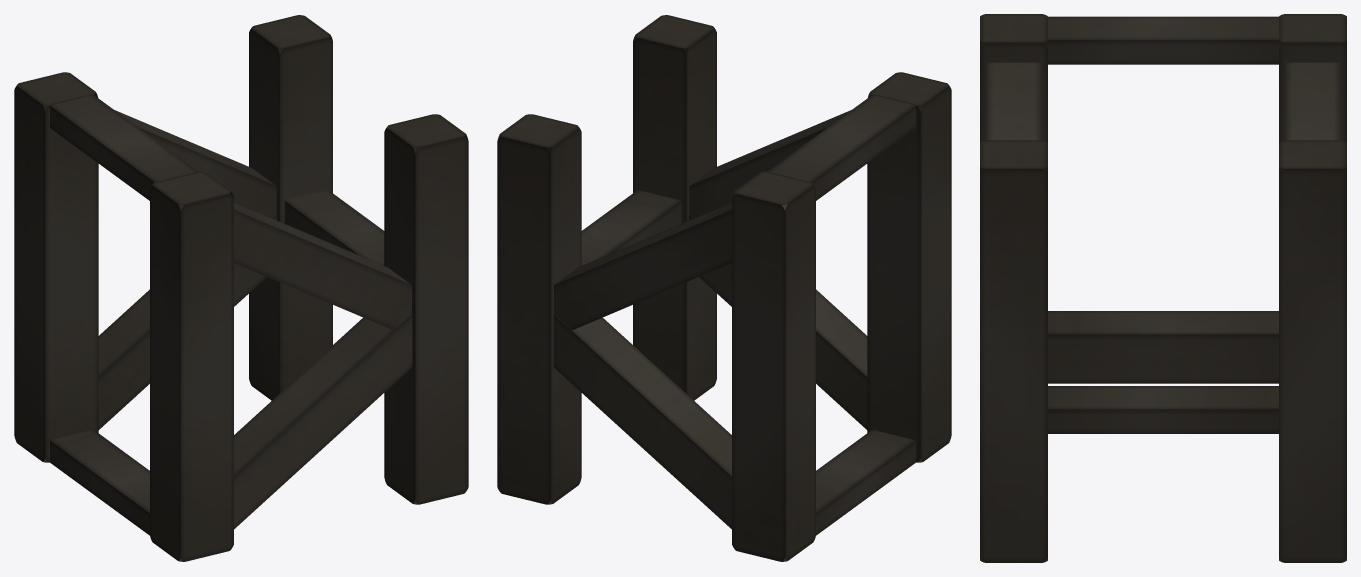
The model's file is steel_props.obj.
The picture shows the model from 3 angles, left to right: view 1: azimuth 30°, elevation 25°; view 2: azimuth 150°, elevation 25°; view 3: azimuth 270°, elevation 25°; orthographic projection. The views are drawn at different scales.
Visible parts, largest first — view 1: 11, 10, 8, 9, 7, 6, 3, 2, 5, 4, 1; view 2: 8, 9, 11, 10, 2, 1, 3, 7, 5, 4, 6; view 3: 9, 10, 4, 3, 5, 8, 11, 1, 6.
Part boxes in pixels (box(x1,y1,x2,y2)): 11: box(150, 171, 233, 561); 10: box(384, 114, 468, 504); 8: box(14, 72, 98, 462); 9: box(249, 15, 332, 400); 7: box(234, 314, 412, 529); 6: box(234, 202, 411, 330); 3: box(47, 95, 197, 210); 2: box(98, 215, 276, 429); 5: box(50, 429, 149, 535); 4: box(284, 190, 384, 265); 1: box(43, 105, 276, 218); 8: box(732, 171, 815, 561); 9: box(497, 114, 581, 504); 11: box(867, 72, 951, 462); 10: box(633, 15, 716, 400); 2: box(553, 314, 731, 529); 1: box(554, 202, 787, 330); 3: box(768, 95, 922, 200); 7: box(689, 215, 867, 429); 5: box(816, 429, 920, 535); 4: box(581, 190, 681, 265); 6: box(689, 110, 850, 218); 9: box(1279, 140, 1346, 562); 10: box(980, 140, 1047, 562); 4: box(1048, 311, 1278, 383); 3: box(1043, 16, 1283, 64); 5: box(1048, 386, 1278, 433); 8: box(1279, 14, 1346, 142); 11: box(980, 14, 1047, 142); 1: box(1285, 62, 1339, 140); 6: box(987, 62, 1041, 140).
Size of the model in its own units: 0.8438 by 1 by 0.8438.
